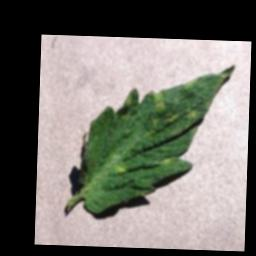Leaf_Mold: (145, 90, 168, 116), (153, 155, 170, 170), (113, 164, 128, 176)
